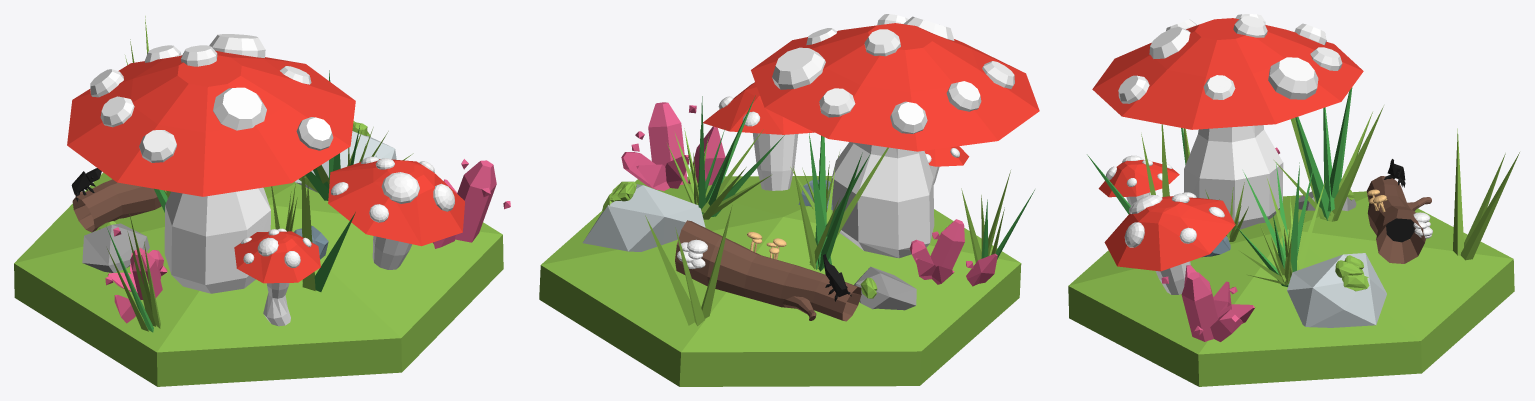
File: Forest_Mushroom_Scene_fixed.glb
3 views of the same model, side by side, from view 1: azimuth 30°, elevation 25°; view 2: azimuth 150°, elevation 25°; view 3: azimuth 270°, elevation 25° (orthographic). The views are drawn at different scales.
Visible parts, largest first — view 1: group1429575181; view 2: group1429575181; view 3: group1429575181.
Part boxes in pixels (bbox=[...]): group1429575181: bbox=[14, 16, 510, 386]; group1429575181: bbox=[539, 14, 1039, 386]; group1429575181: bbox=[1068, 14, 1519, 386].
Size of the model in its own units: 0.8903 by 0.5887 by 0.9381.
